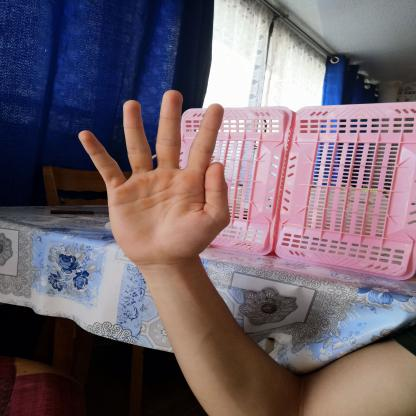SHEEN: (66, 80, 247, 271)
